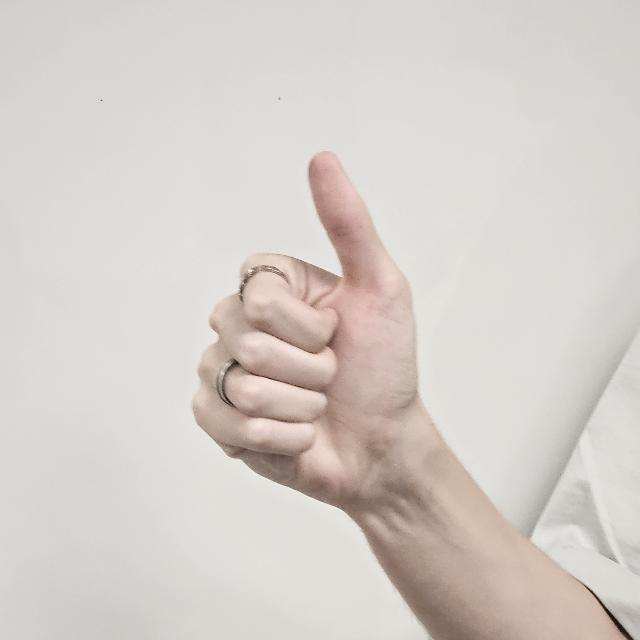Start: (198, 146, 416, 522)
